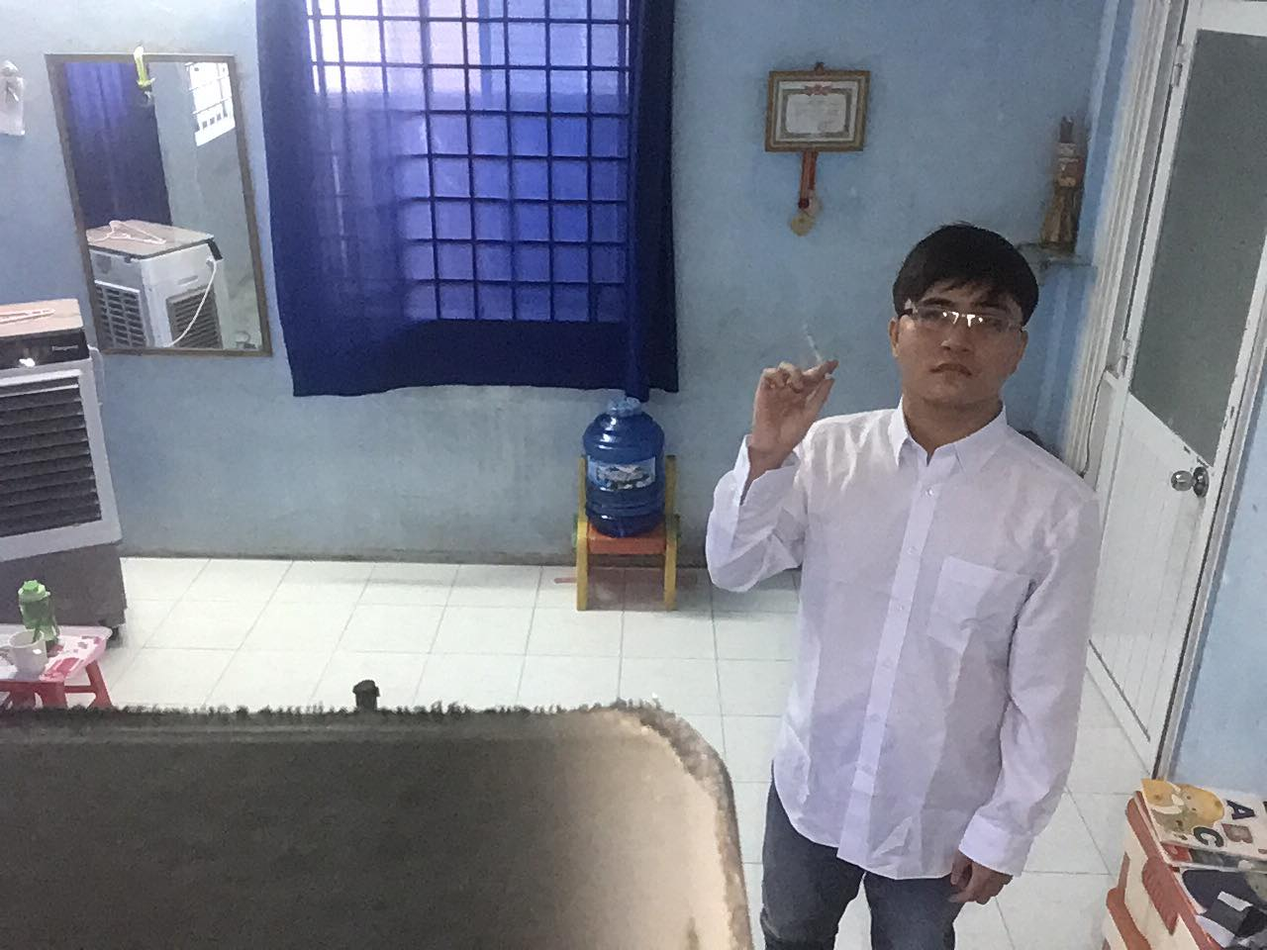cigarette: (798, 321, 840, 387)
person: (701, 202, 1104, 950)
